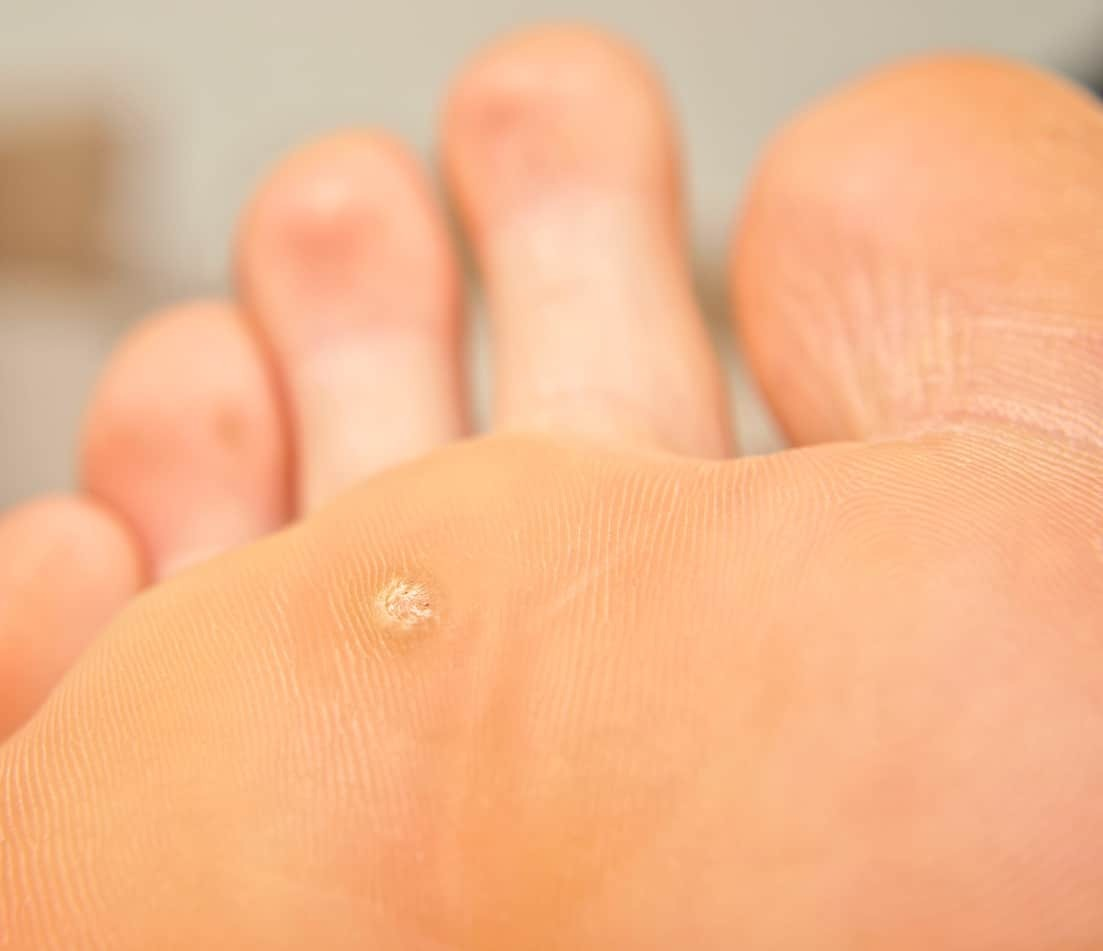Warts: (346, 549, 457, 669)
